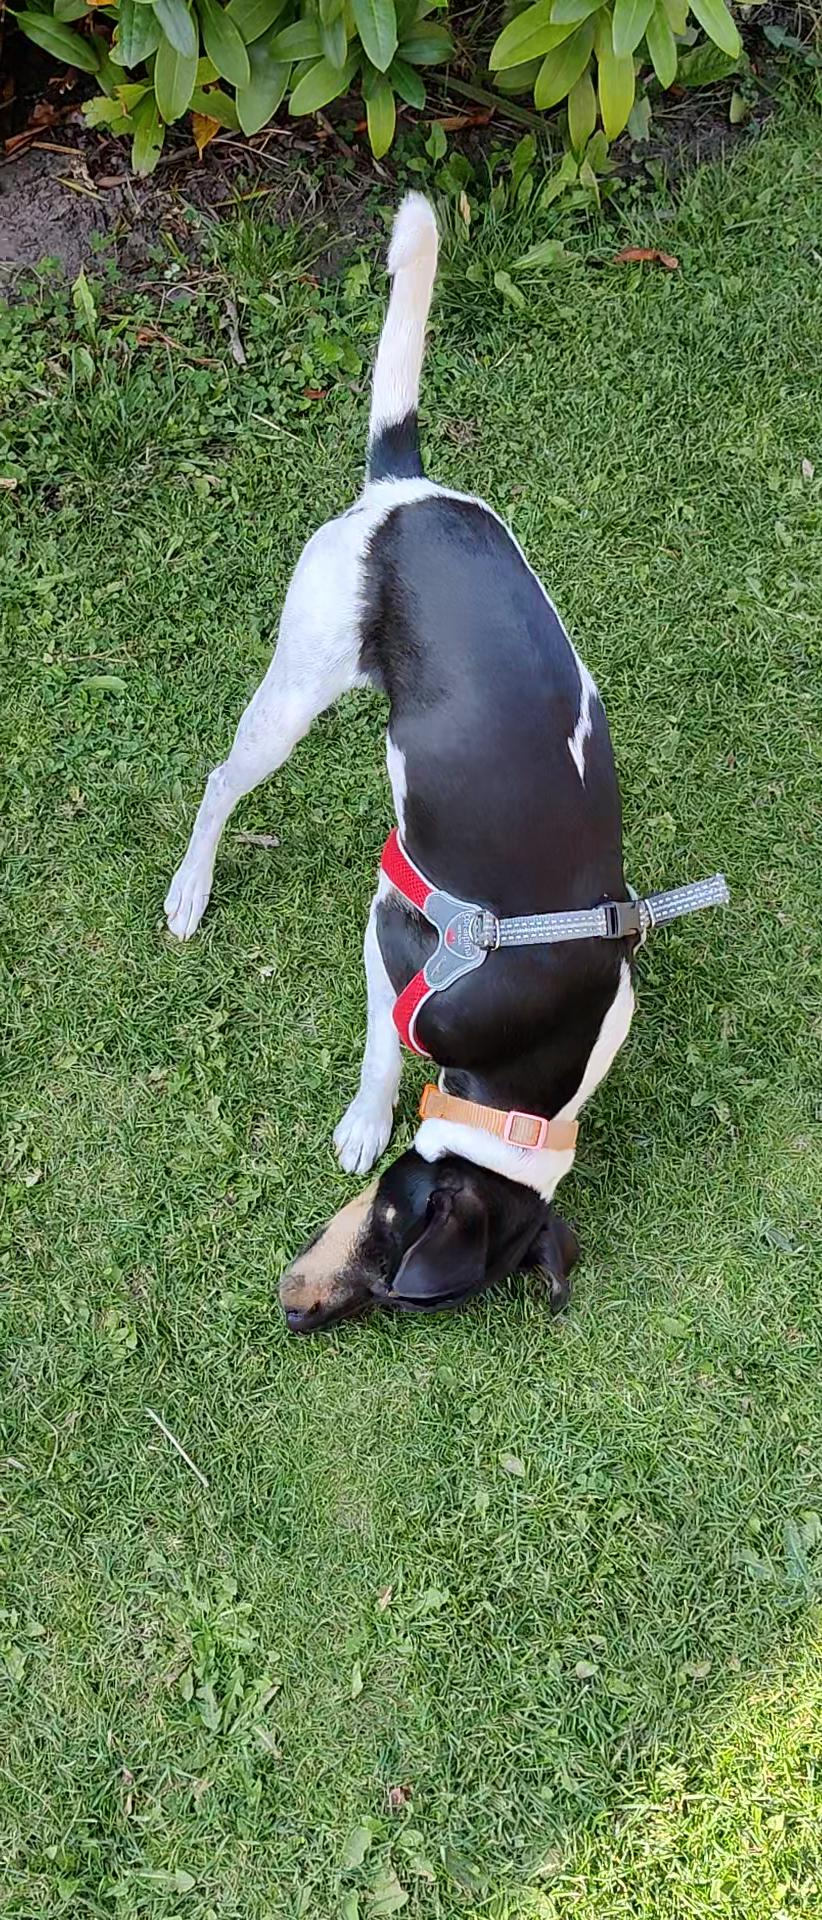Dog: (127, 180, 677, 1338)
